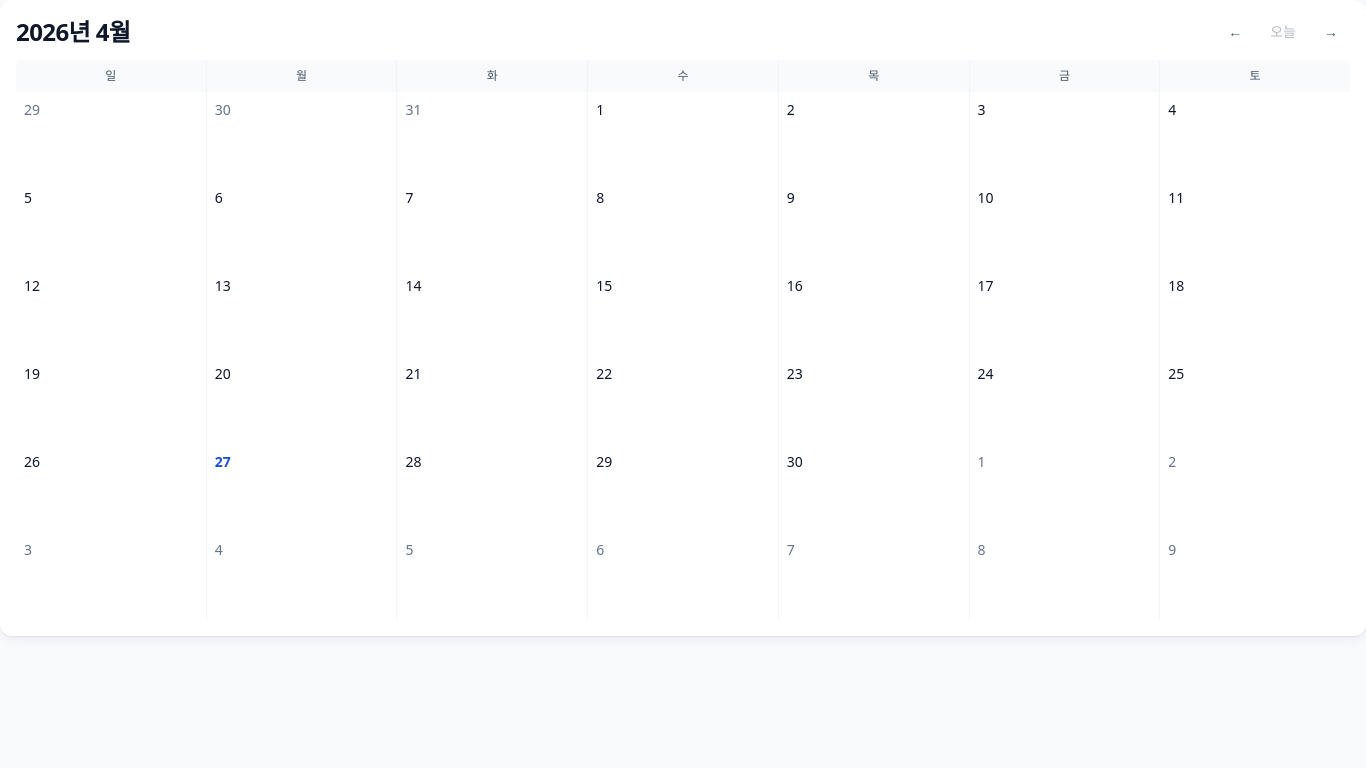
Scenario: <DayDetailPanel /> (#14) › 빈 상태 안내가 새 카피로 노출된다 (AC-2)
Click the cell named "2026-04-27, 오늘" at (302, 488), box top-left (207, 444), bottom-right (396, 532)
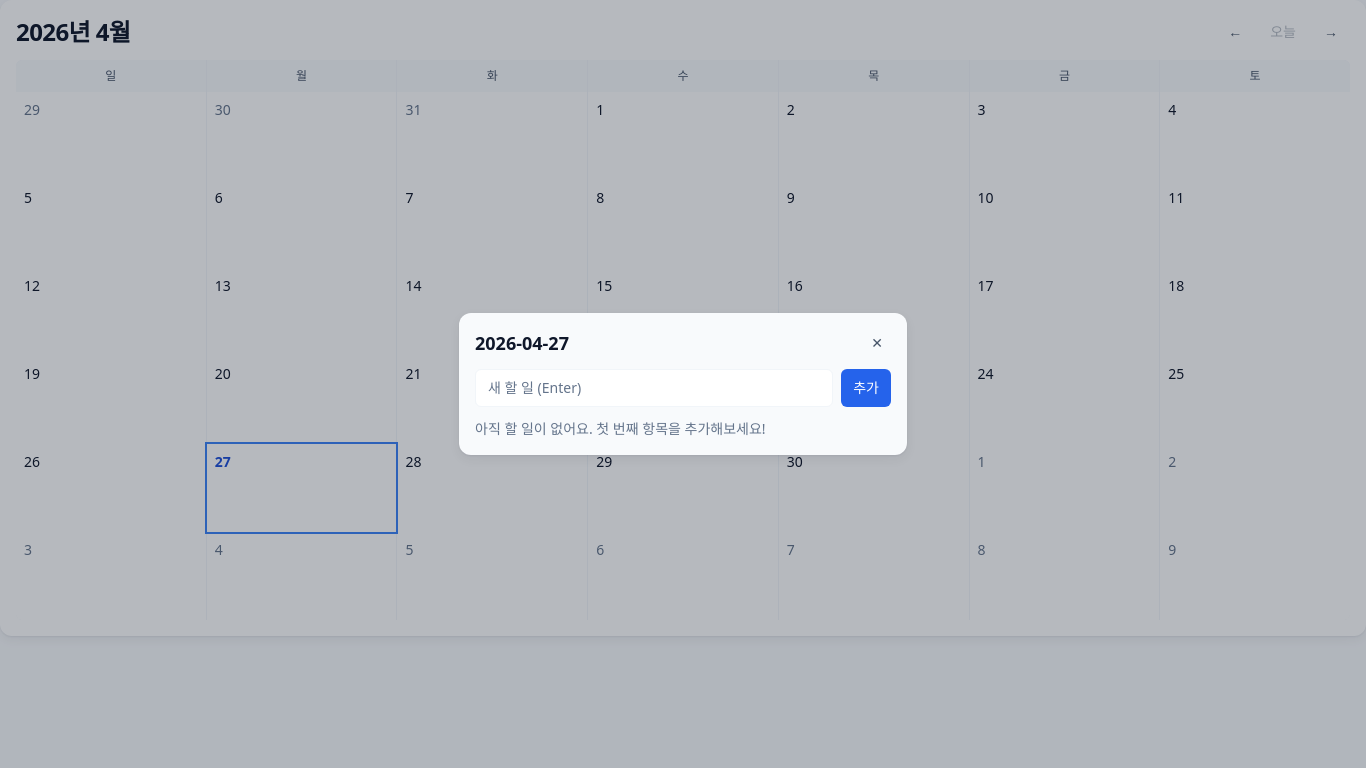
Now the text with test id "todo-empty" reads "아직 할 일이 없어요. 첫 번째 항목을 추가해보세요!", box top-left (475, 419), bottom-right (766, 438)
